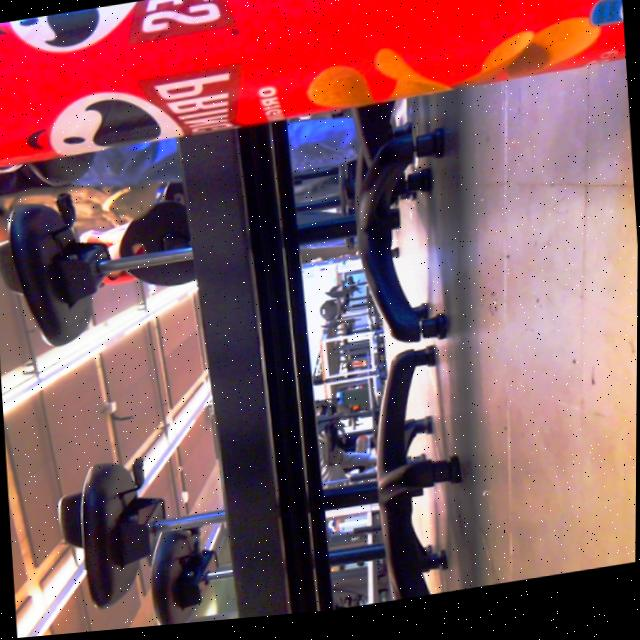redpringles: (0, 0, 629, 195)
